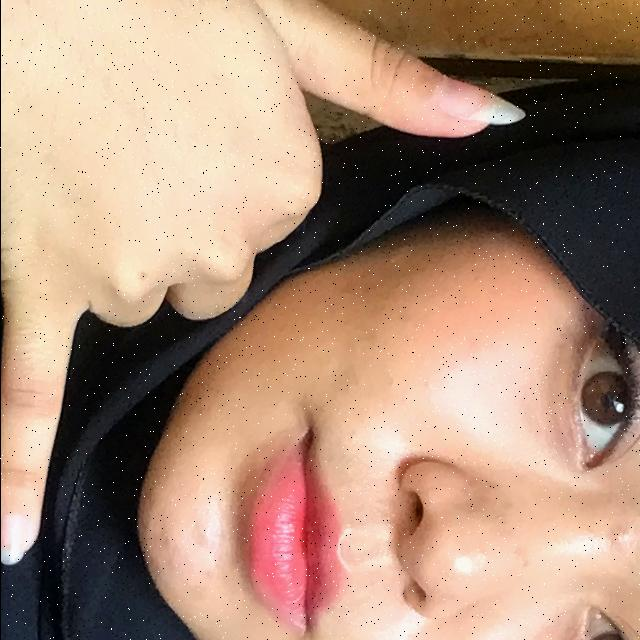telpon: (0, 0, 554, 570)
